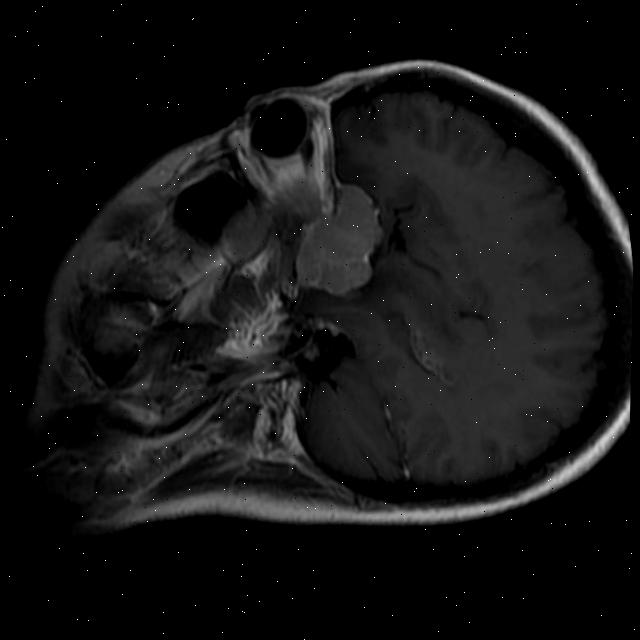Meningioma: (283, 176, 395, 306)
